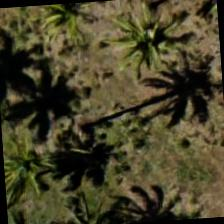Kelapa_Sawit: (99, 0, 196, 91), (1, 126, 68, 220), (26, 0, 120, 56)
